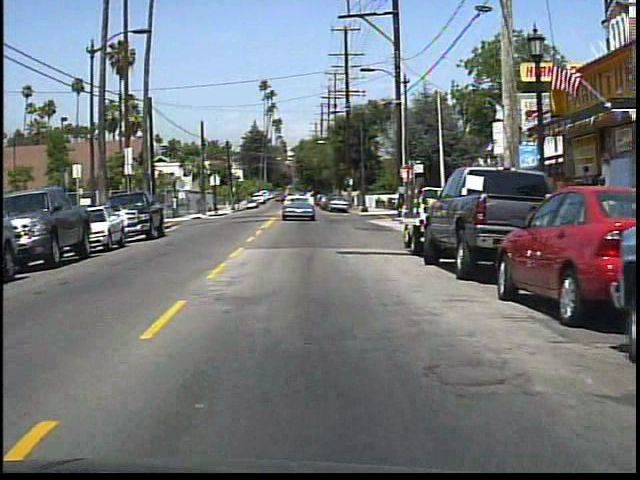person: (587, 171, 615, 243)
